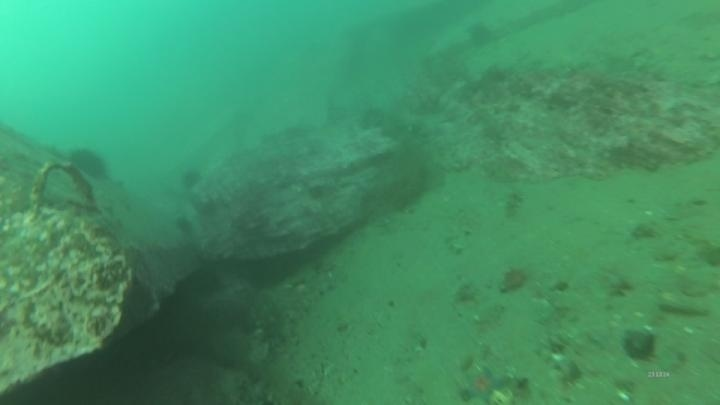echinus: (67, 145, 111, 184), (464, 20, 497, 50), (178, 165, 204, 192)
starfish: (458, 363, 510, 405)
